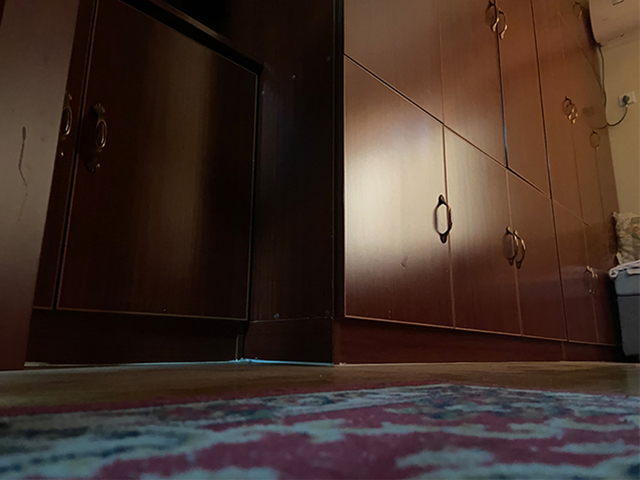cabinet: (333, 1, 623, 366)
carpet: (1, 380, 640, 480)
